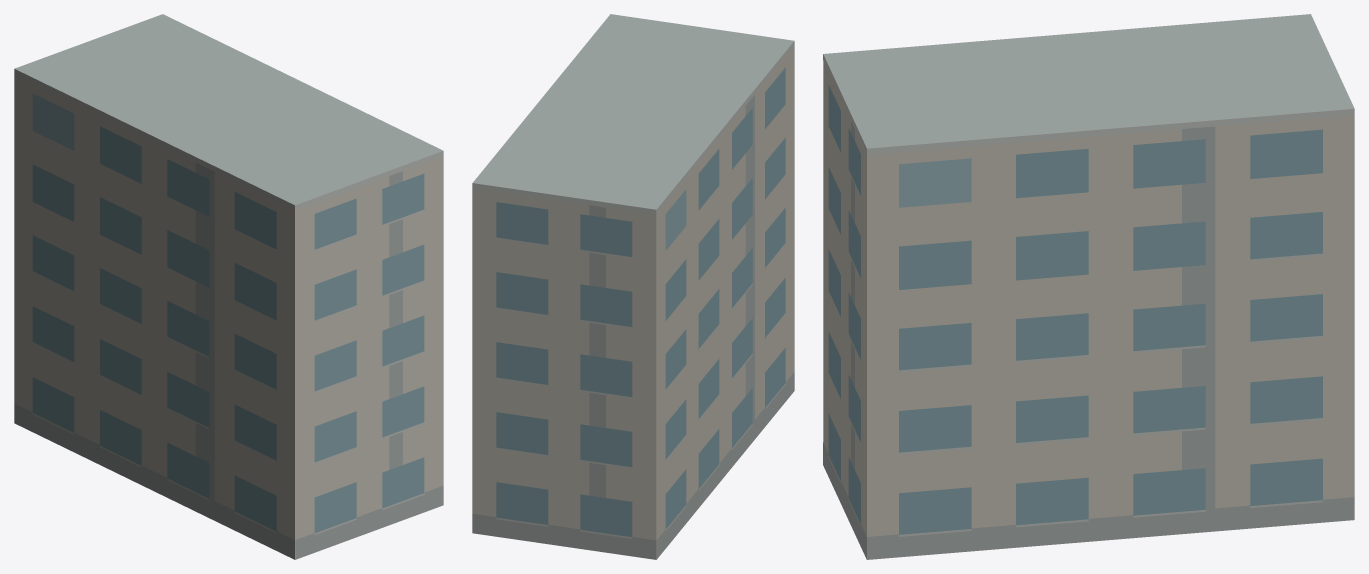
Rendered from survey-upis-33041794.glb.
The picture shows the model from 3 angles, left to right: view 1: azimuth 30°, elevation 25°; view 2: azimuth 150°, elevation 25°; view 3: azimuth 270°, elevation 25°; orthographic projection. The views are drawn at different scales.
Visible parts, largest first — view 1: survey-upis-33041794.tmp; view 2: survey-upis-33041794.tmp; view 3: survey-upis-33041794.tmp.
Boxes of the visible parts, left/top/right/bottom form: survey-upis-33041794.tmp: left=14, top=14, right=443, bottom=559; survey-upis-33041794.tmp: left=472, top=14, right=794, bottom=559; survey-upis-33041794.tmp: left=823, top=14, right=1354, bottom=559.
Bounding box in the file's own units: 11.32 × 16.1 × 18.87.
